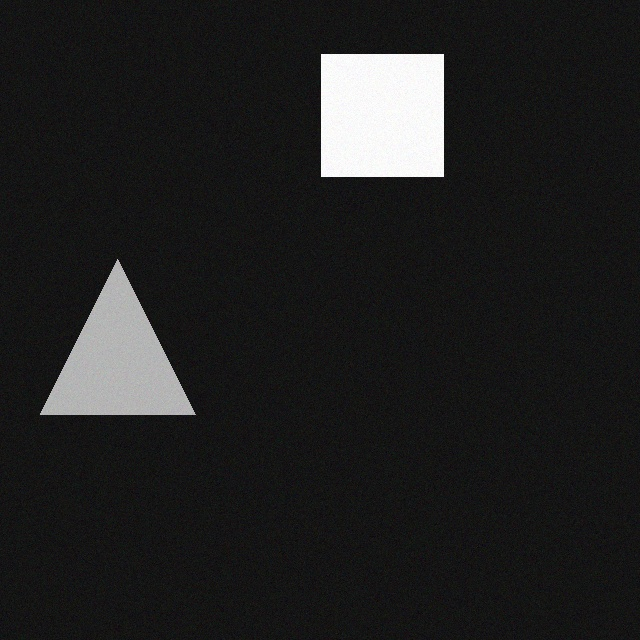square: (325, 57, 447, 179)
triangle: (44, 262, 199, 417)
